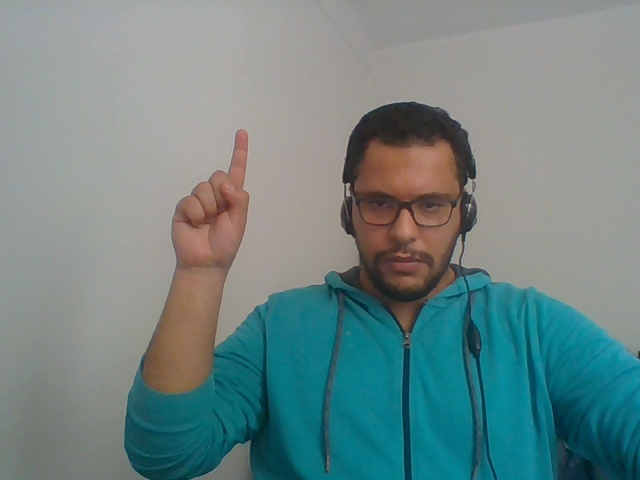handup: (130, 109, 274, 388)
